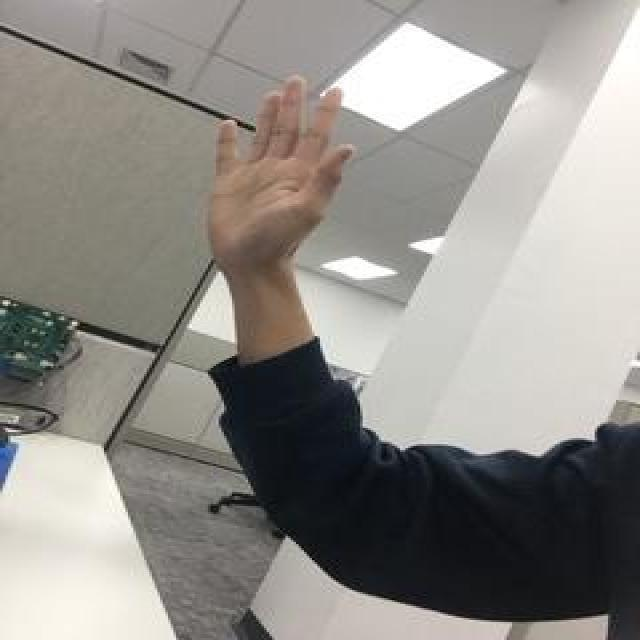no-gloves: (202, 74, 354, 268)
